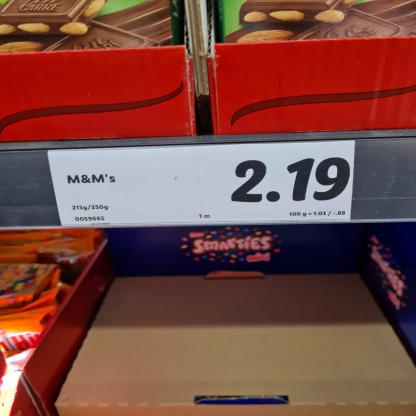prtg: (48, 141, 356, 228)
